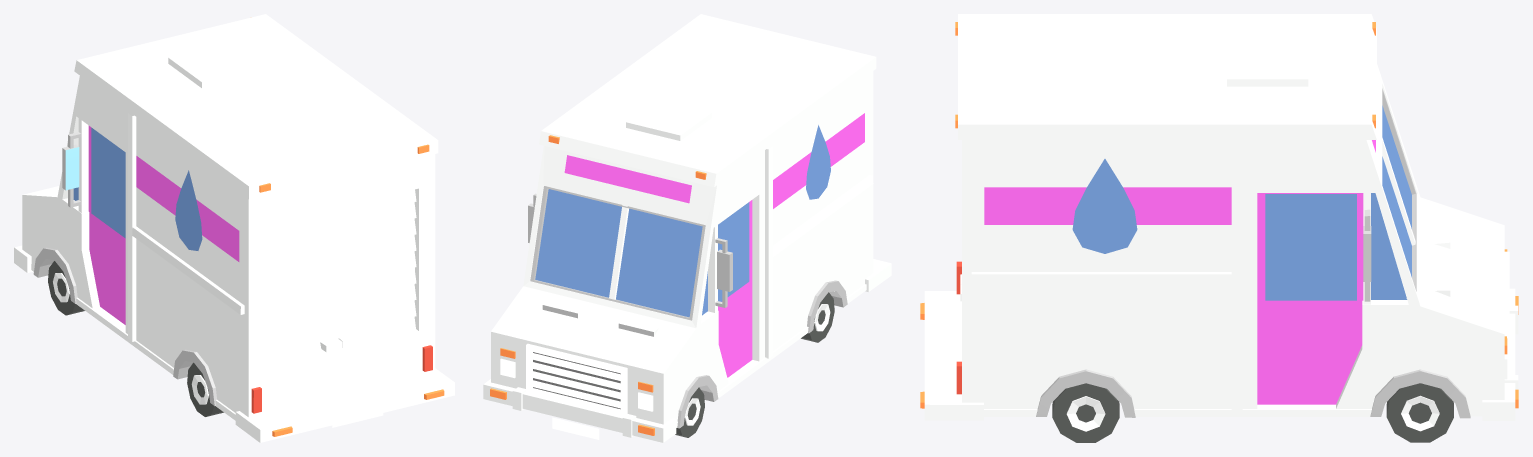
Rendered from transport_bus.002.glb.
The picture shows the model from 3 angles, left to right: view 1: azimuth 30°, elevation 25°; view 2: azimuth 150°, elevation 25°; view 3: azimuth 270°, elevation 25°; orthographic projection. The views are drawn at different scales.
Parts seen in each view (by area): view 1: transport_bus.002(Clone); view 2: transport_bus.002(Clone); view 3: transport_bus.002(Clone).
Boxes of the visible parts, <box> form: transport_bus.002(Clone): <box>14,14,454,442</box>; transport_bus.002(Clone): <box>483,14,891,442</box>; transport_bus.002(Clone): <box>920,14,1518,442</box>.
Bounding box in the file's own units: 2.02 × 2.43 × 4.01.
1 material, 1 textured.
